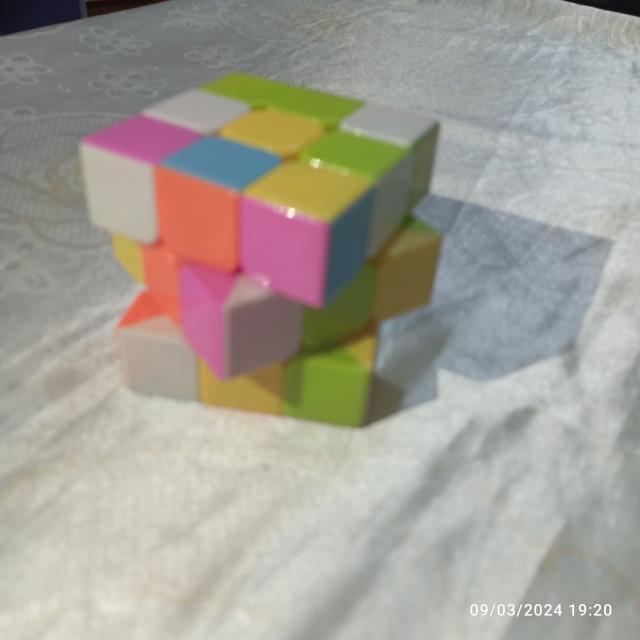Rub: (75, 63, 445, 430)
